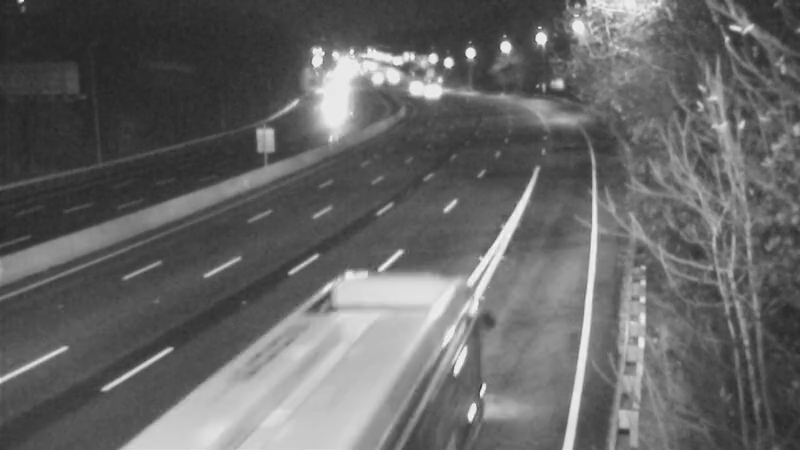vehicle: (285, 320, 395, 430), (364, 49, 414, 99), (351, 52, 401, 102), (389, 62, 439, 112), (407, 68, 457, 118), (307, 76, 357, 126)
